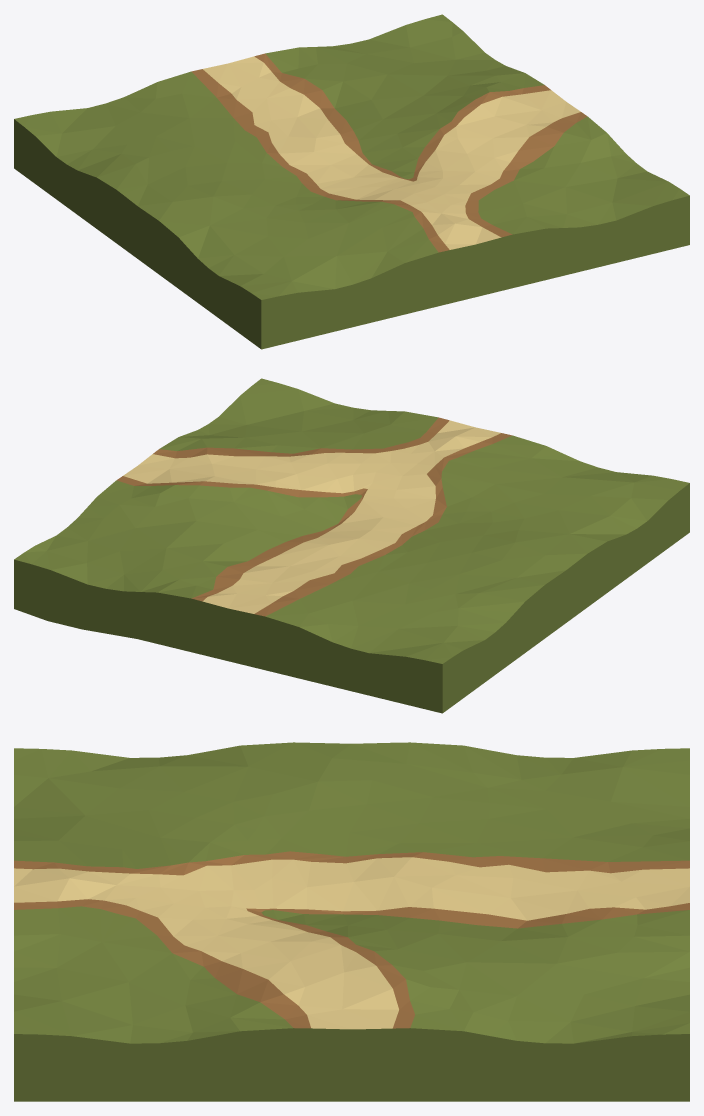
File: Terrian_Road_Int_Flat-03.fbx
3 renders of one model, top to bottom at view 1: azimuth 30°, elevation 25°; view 2: azimuth 150°, elevation 25°; view 3: azimuth 270°, elevation 25°, orthographic. The views are drawn at different scales.
Visible parts, largest first — view 1: Terrian_Road_Int_Flat-03; view 2: Terrian_Road_Int_Flat-03; view 3: Terrian_Road_Int_Flat-03.
Boxes of the visible parts, left/top/right/bottom form: Terrian_Road_Int_Flat-03: left=14, top=14, right=689, bottom=349; Terrian_Road_Int_Flat-03: left=14, top=378, right=689, bottom=713; Terrian_Road_Int_Flat-03: left=14, top=742, right=689, bottom=1101.
Bounding box in the file's own units: 3600 × 533 × 3600.
1 material, 1 textured.
